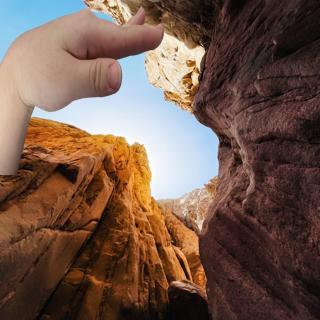Wait: (6, 2, 180, 108)
